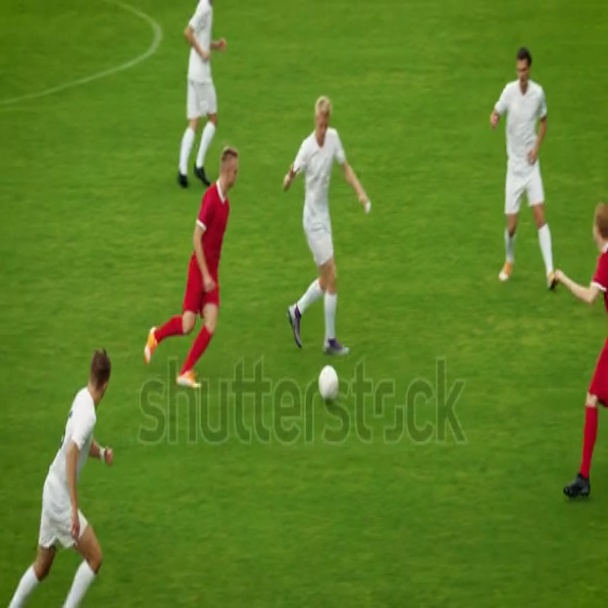ball: (314, 361, 344, 407)
